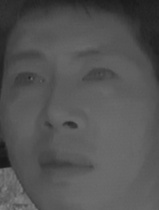eye: (78, 61, 119, 88), (7, 68, 46, 92)
mouth: (35, 147, 94, 179)
